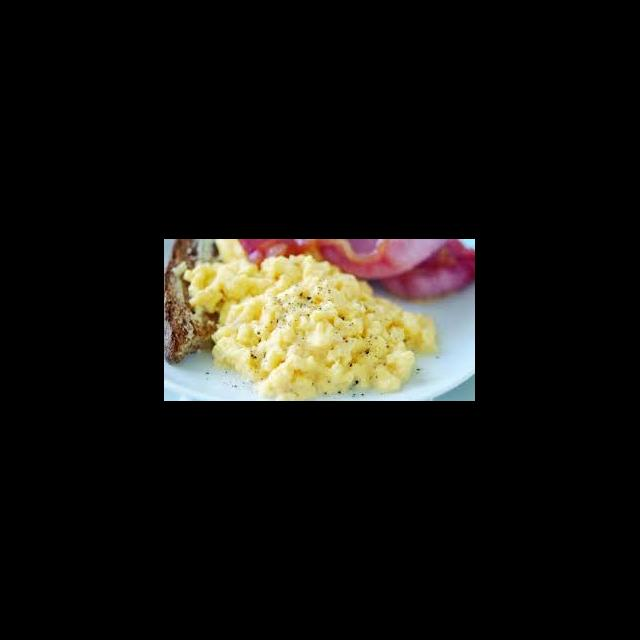food_waste: (203, 265, 416, 386)
